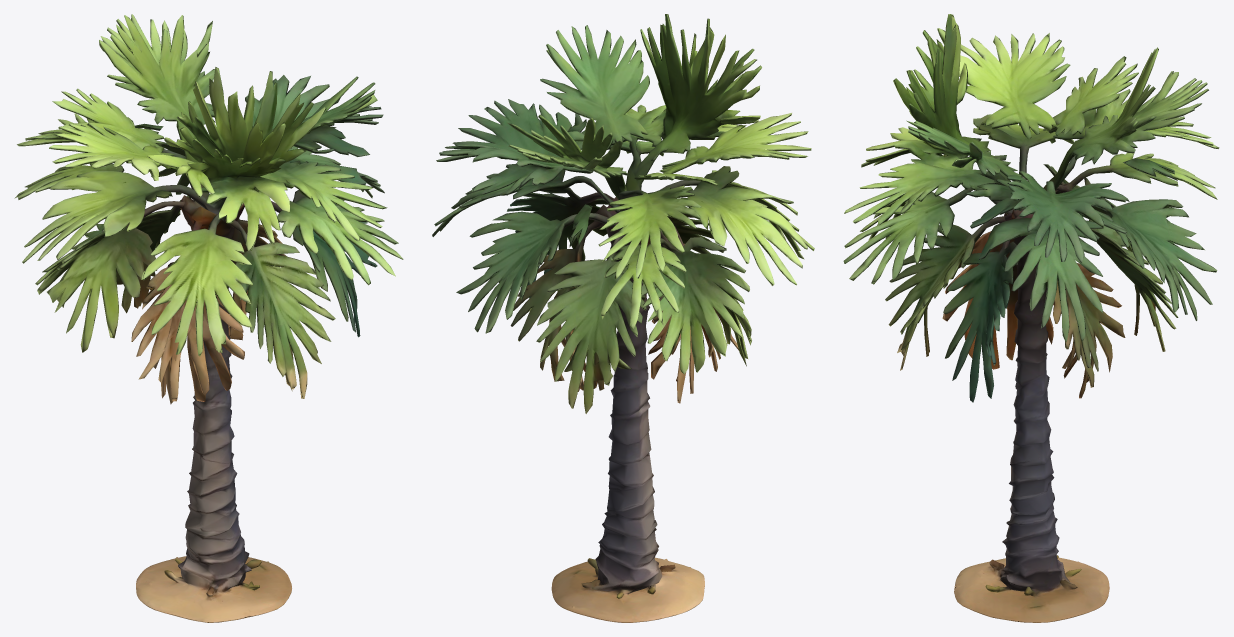
Rendered from palm.glb.
The picture shows the model from 3 angles, left to right: view 1: azimuth 30°, elevation 25°; view 2: azimuth 150°, elevation 25°; view 3: azimuth 270°, elevation 25°; orthographic projection.
Parts seen in each view (by area): view 1: tripo_node_e8a3fa86-9100-433b-8412-d989d6f172ff; view 2: tripo_node_e8a3fa86-9100-433b-8412-d989d6f172ff; view 3: tripo_node_e8a3fa86-9100-433b-8412-d989d6f172ff.
Boxes of the visible parts, x1,y1,x2,y2 form: tripo_node_e8a3fa86-9100-433b-8412-d989d6f172ff: (14,14,403,622); tripo_node_e8a3fa86-9100-433b-8412-d989d6f172ff: (432,14,814,622); tripo_node_e8a3fa86-9100-433b-8412-d989d6f172ff: (843,14,1219,622).
Size of the model in its own units: 0.6681 by 1 by 0.6121.
Materials: 1 (1 with a texture image).
